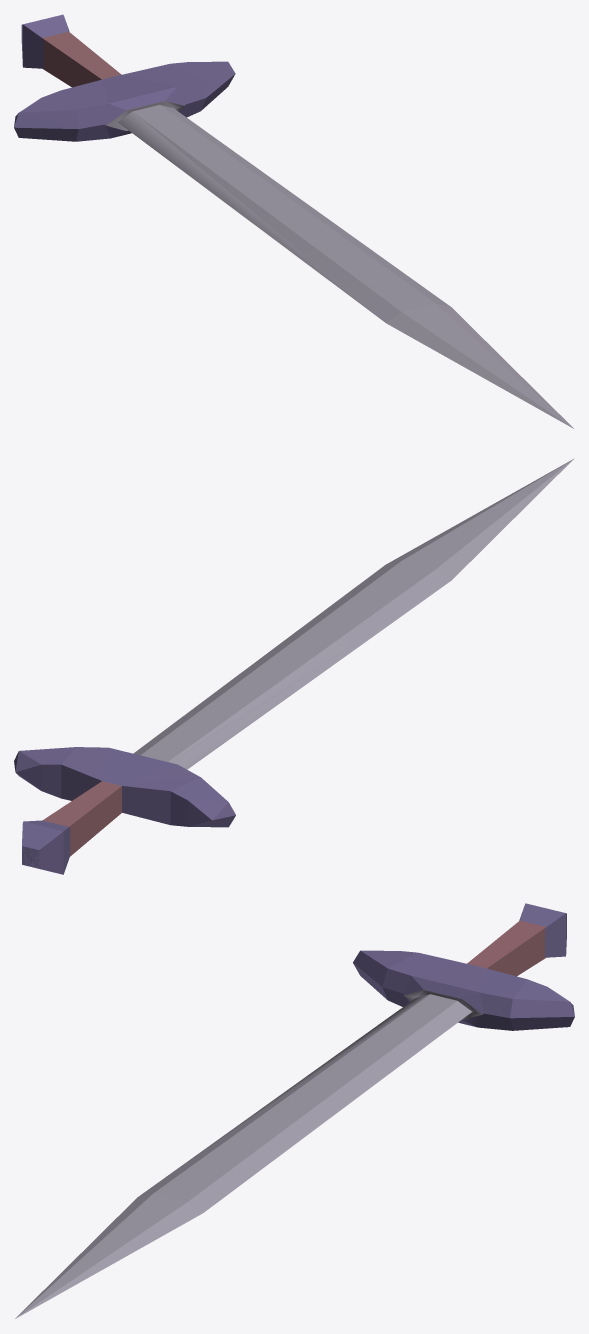
Rendered from longsword.glb.
The picture shows the model from 3 angles, top to bottom: view 1: azimuth 30°, elevation 25°; view 2: azimuth 150°, elevation 25°; view 3: azimuth 330°, elevation 25°; orthographic projection.
Visible parts, largest first — view 1: Cube.001; view 2: Cube.001; view 3: Cube.001.
Part boxes in pixels (x1,y1,x2,y2): Cube.001: (14, 14, 573, 428); Cube.001: (14, 458, 574, 874); Cube.001: (15, 903, 574, 1318).
Size of the model in its own units: 3.62 by 0.6752 by 15.37.
1 material, 1 textured.
